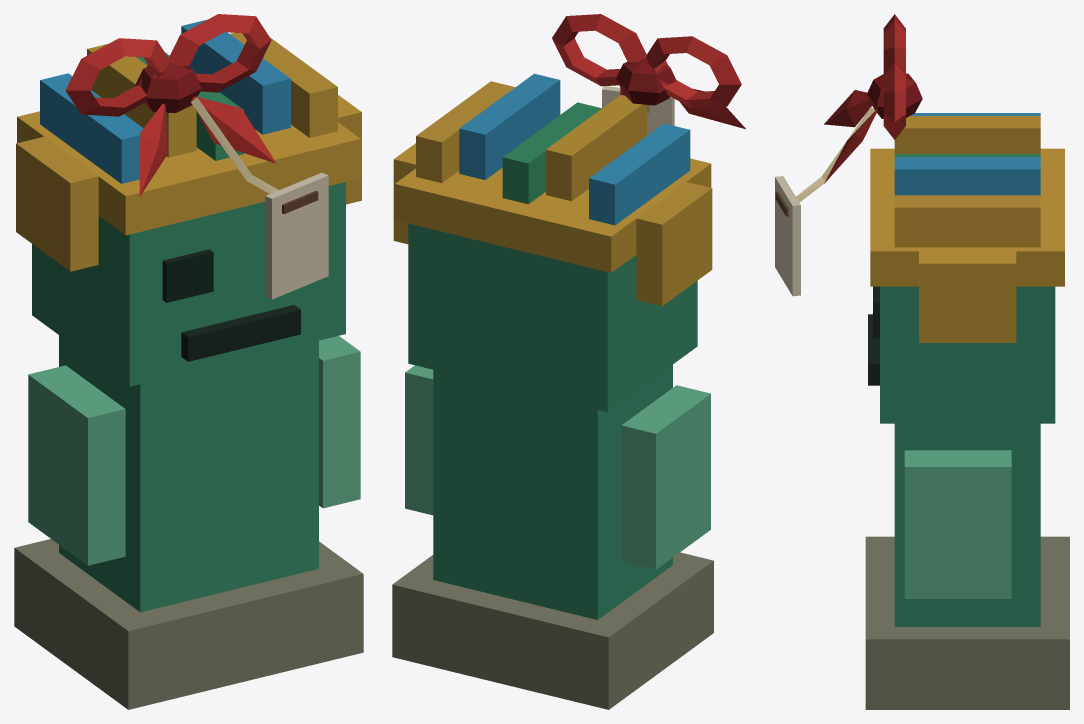
File: quest_jade_idol.glb
The picture shows the model from 3 angles, left to right: view 1: azimuth 30°, elevation 25°; view 2: azimuth 150°, elevation 25°; view 3: azimuth 270°, elevation 25°; orthographic projection. The views are drawn at different scales.
Parts seen in each view (by area): view 1: quest_jade_idol; view 2: quest_jade_idol; view 3: quest_jade_idol.
Boxes of the visible parts, x1=… form: quest_jade_idol: x1=14, y1=14, x2=363, y2=709; quest_jade_idol: x1=392, y1=14, x2=745, y2=709; quest_jade_idol: x1=775, y1=14, x2=1069, y2=709.
Bounding box in the file's own units: 0.2254 × 0.4573 × 0.2072.
